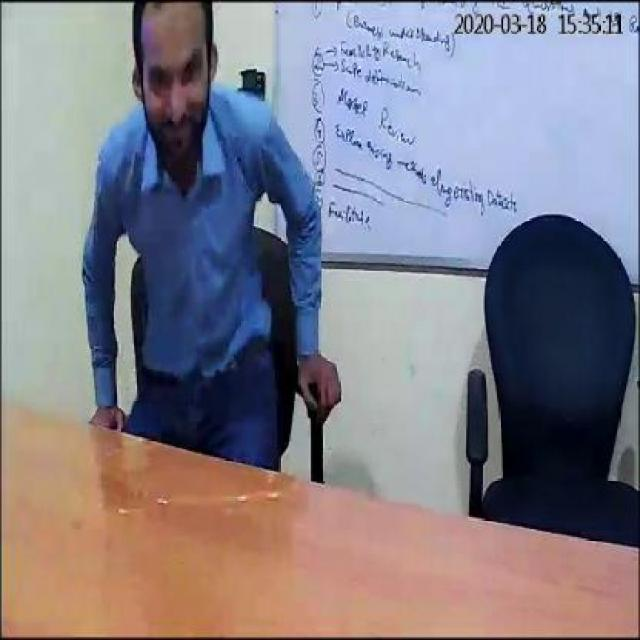spill: (82, 448, 302, 508)
